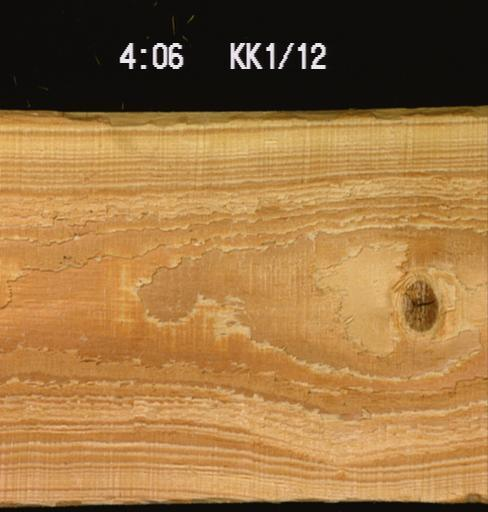sound_knot: (399, 277, 442, 333)
wave: (0, 106, 487, 123)
